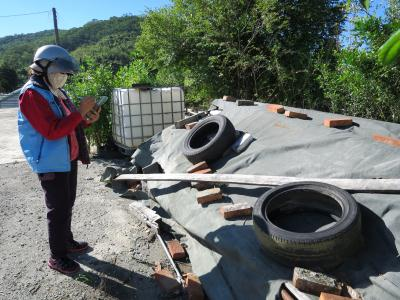tire: (252, 179, 366, 269), (181, 115, 238, 166)
